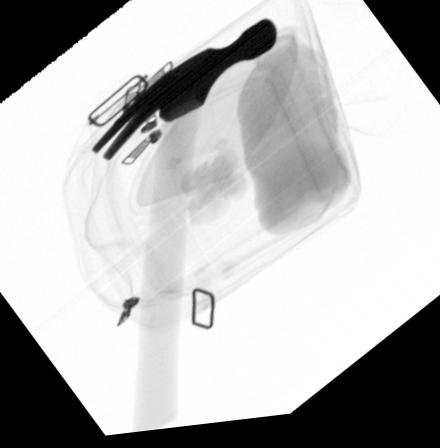Hammer: (88, 24, 279, 436)
